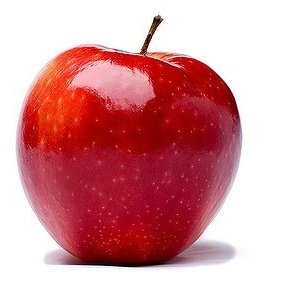apple: (13, 46, 244, 266)
